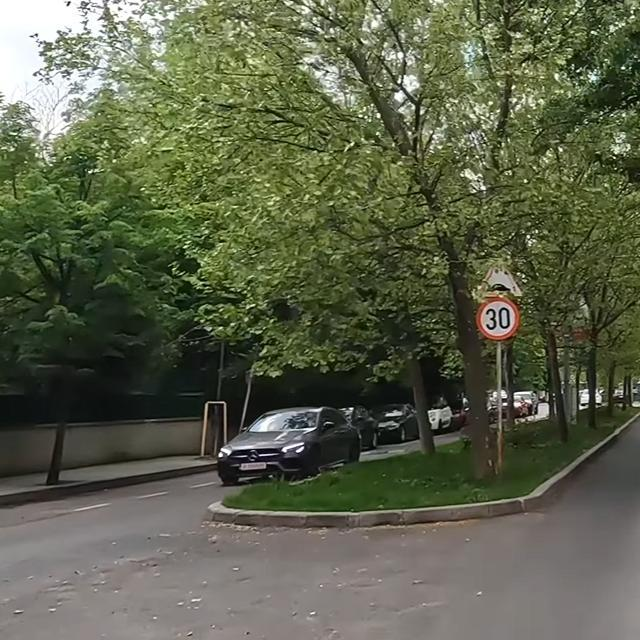forb_speed_over_30: (477, 296, 519, 340)
